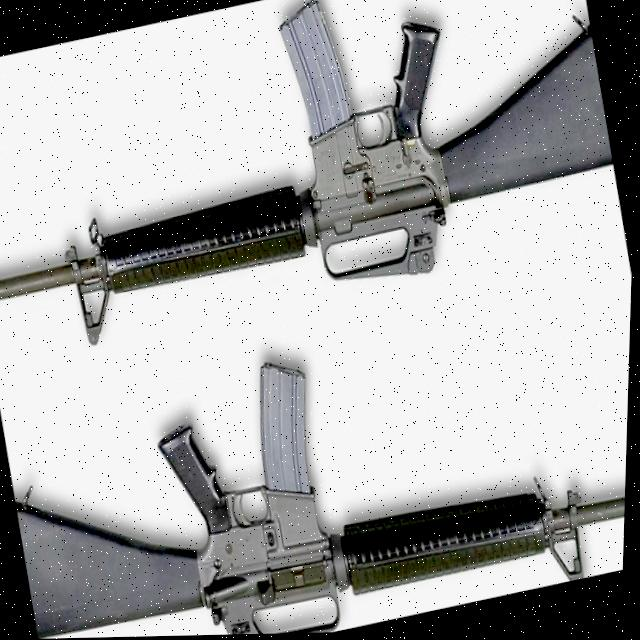firearm: (0, 0, 632, 370), (0, 287, 633, 640)
